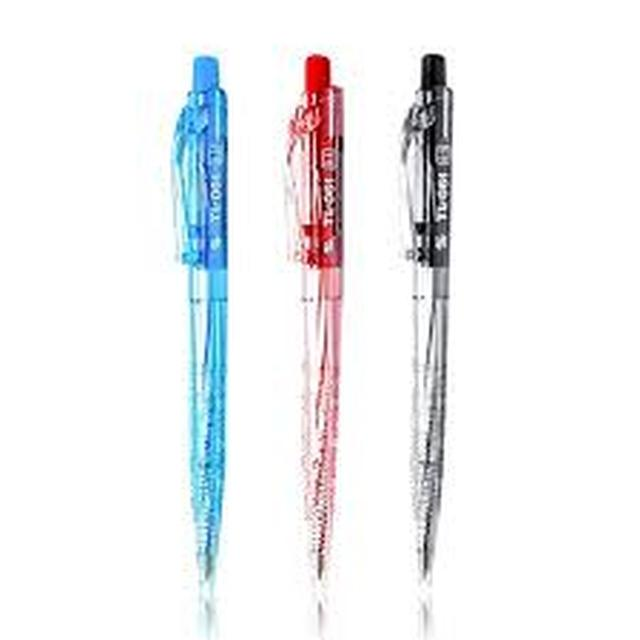pen: (286, 44, 358, 626), (403, 39, 471, 600), (191, 51, 235, 626)
